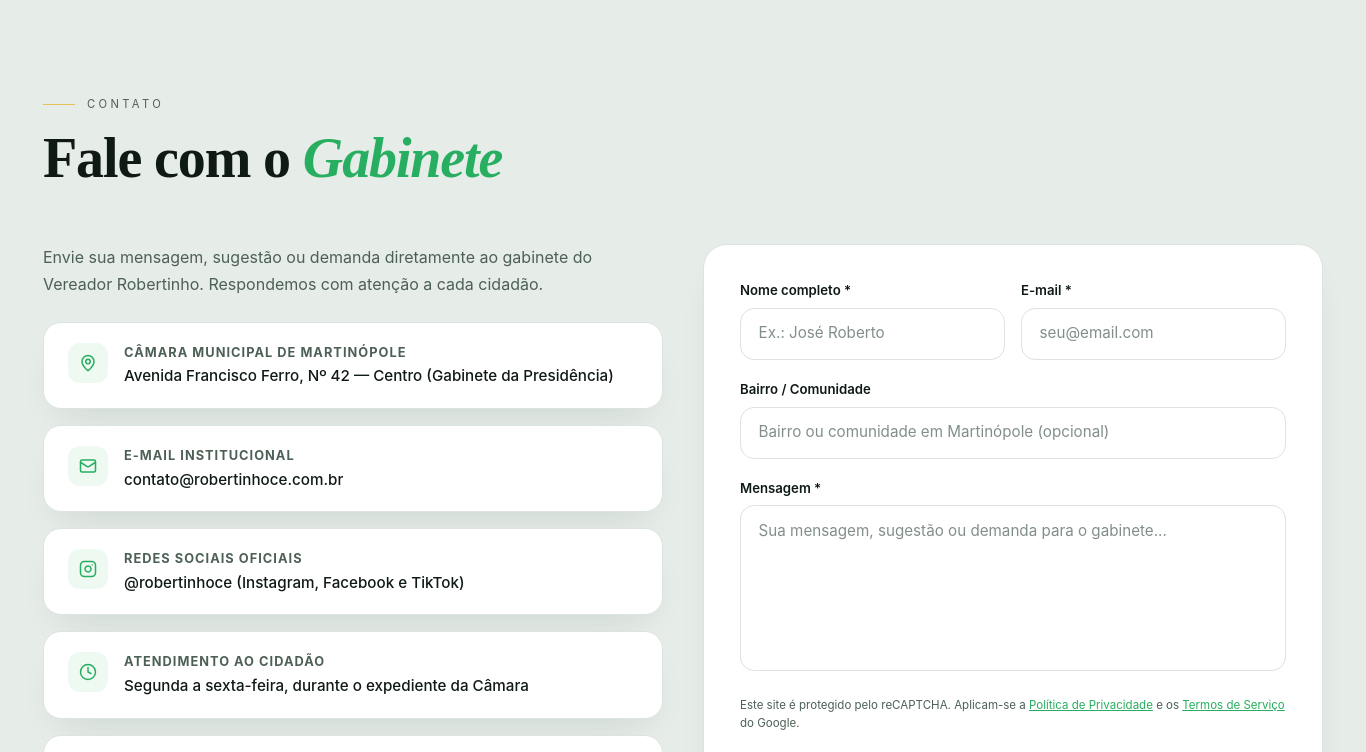
Formulário de Contato (Formspark + reCAPTCHA v3) › envia JSON para o endpoint Formspark com token v3
Type "José Roberto" into the field labelled "Nome completo *" at [872, 334], box left=740, top=308, right=1005, bottom=360
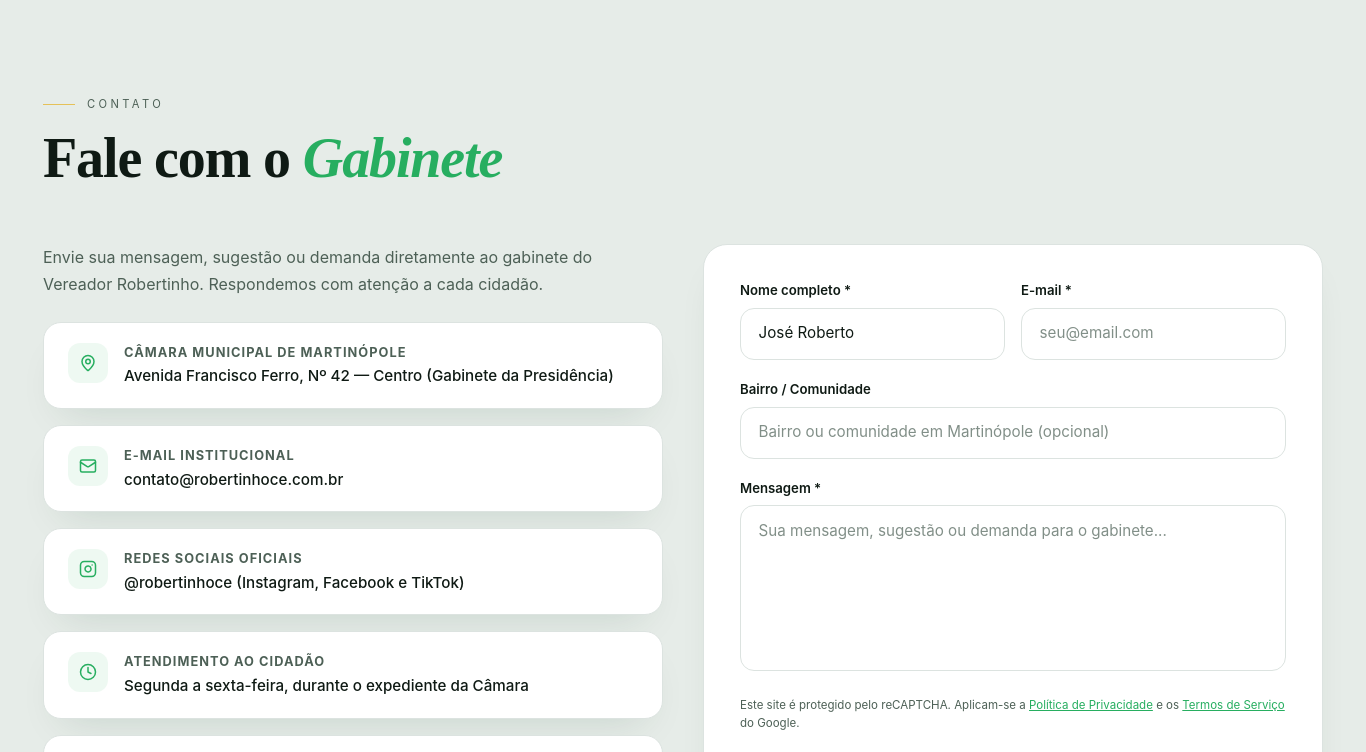
Type "jose@teste.com" into the field labelled "E-mail *" at [1154, 334], box left=1021, top=308, right=1286, bottom=360
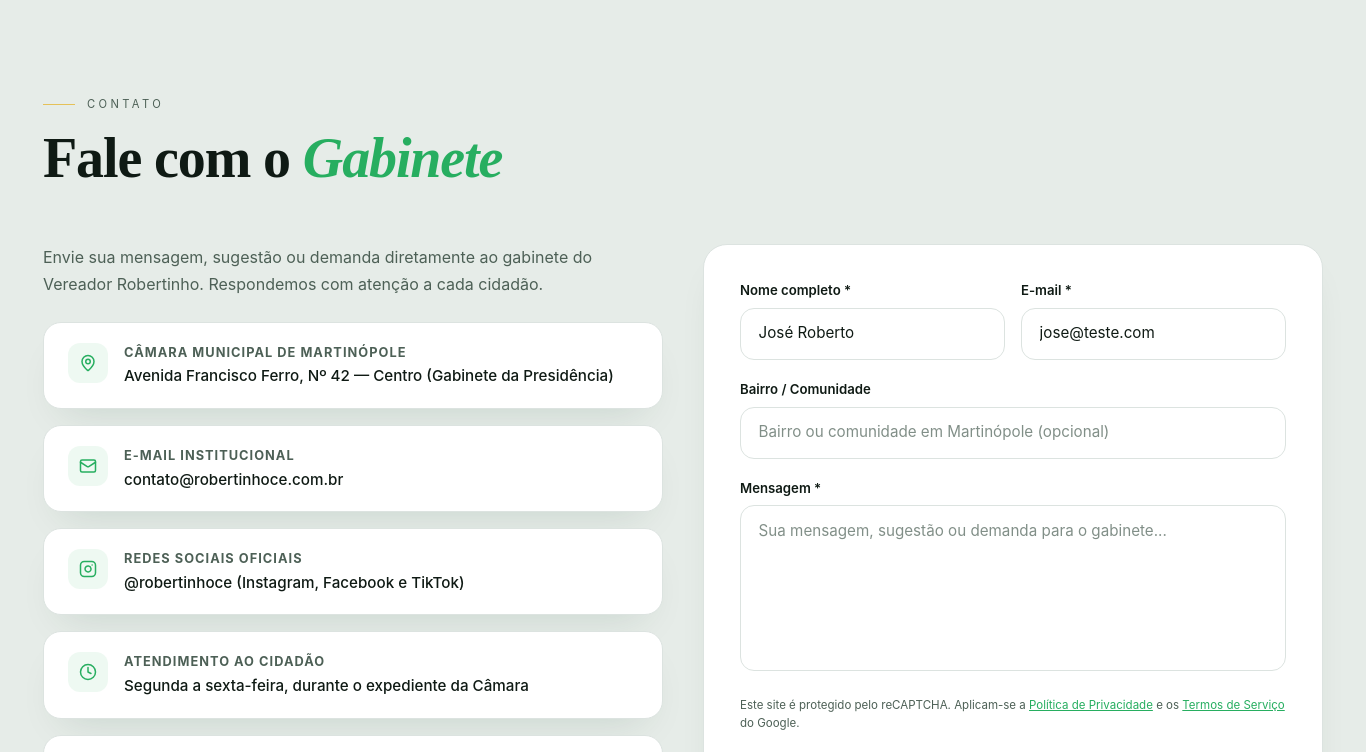
Type "Mensagem de teste" into the text box labelled "Mensagem *" at [1013, 588], box left=740, top=506, right=1286, bottom=671
(page scrolled)
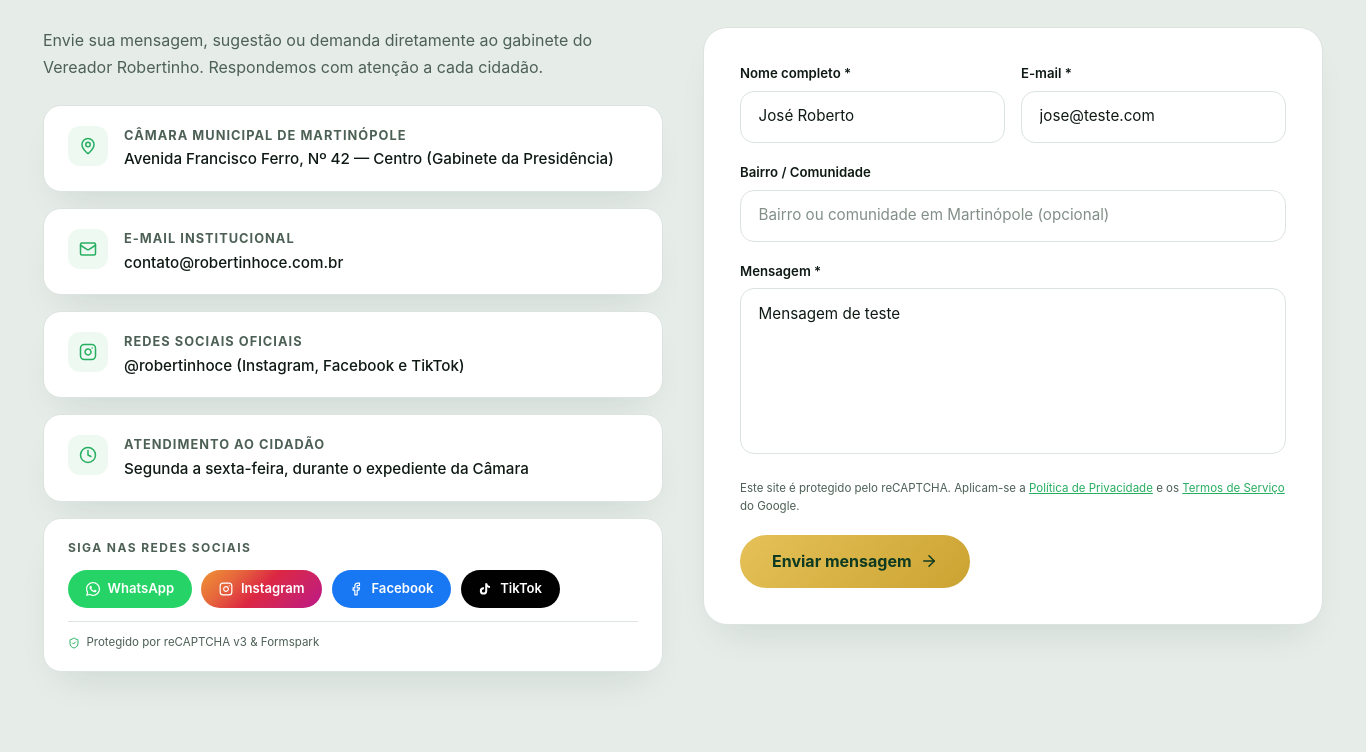
Click the button "Enviar mensagem" at [855, 561], box left=740, top=535, right=970, bottom=588
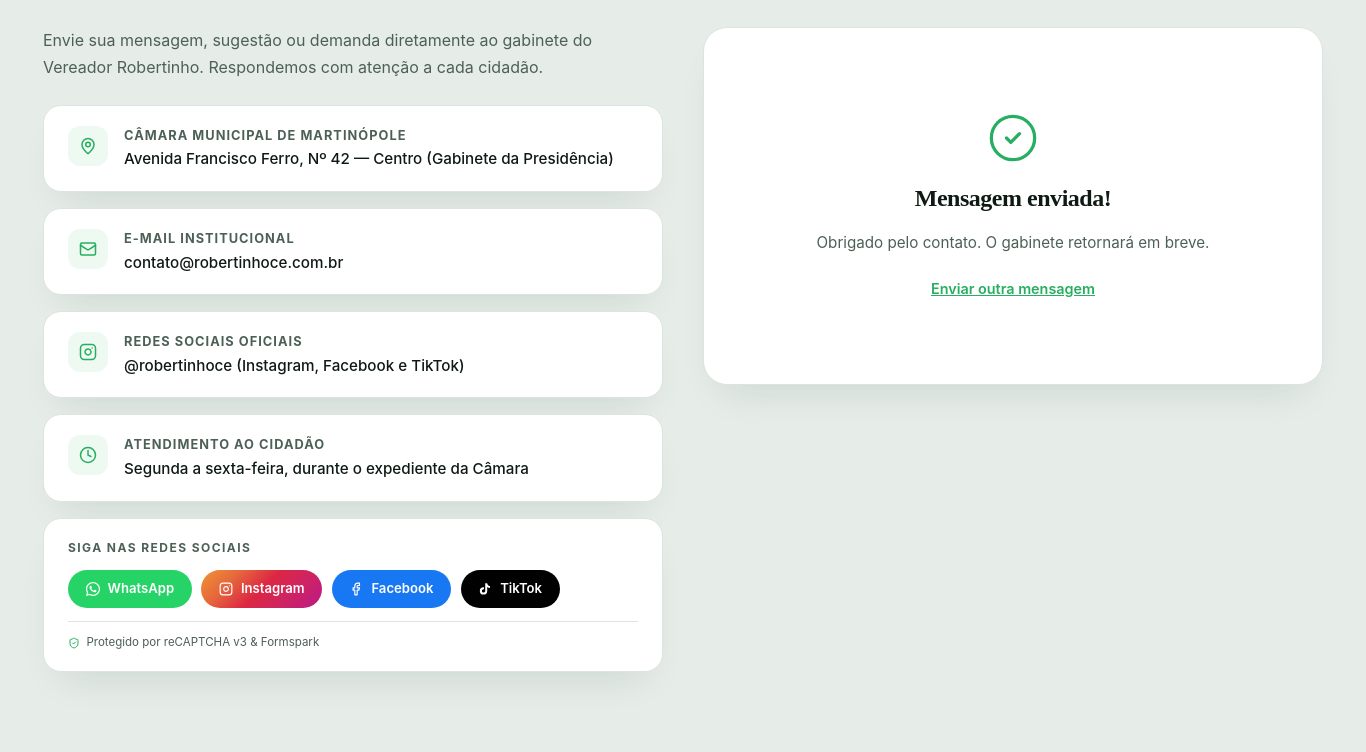
Expected: the heading "Mensagem enviada!" is shown, left=915, top=180, right=1111, bottom=216
